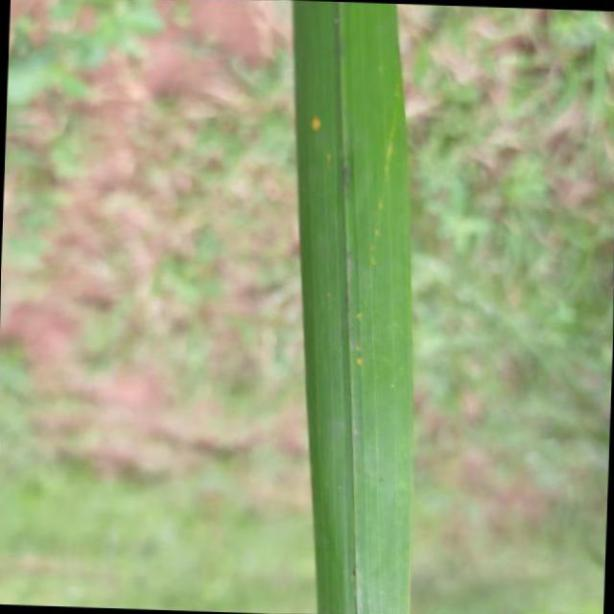Kalium: (291, 0, 417, 614)
